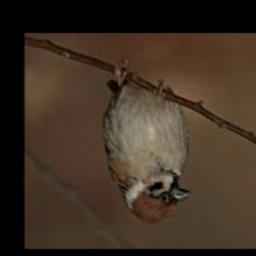Sparrow: (104, 61, 192, 225)
